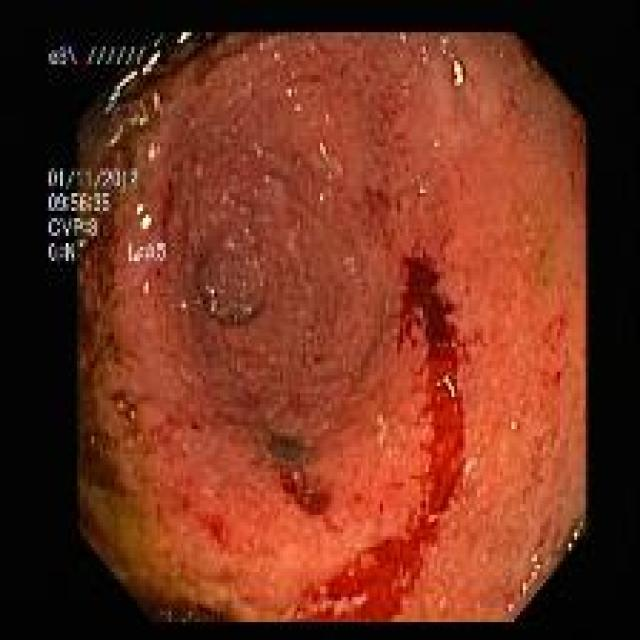ulcerative-colitis: (80, 34, 584, 620)
